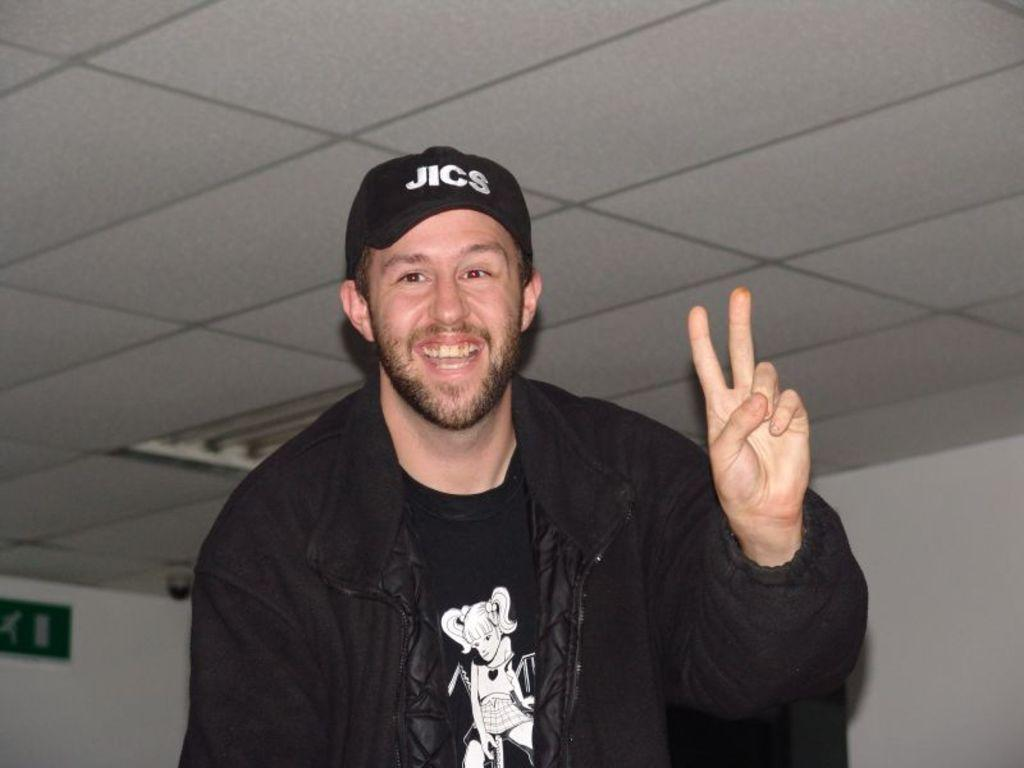Hat: (348, 140, 532, 274)
